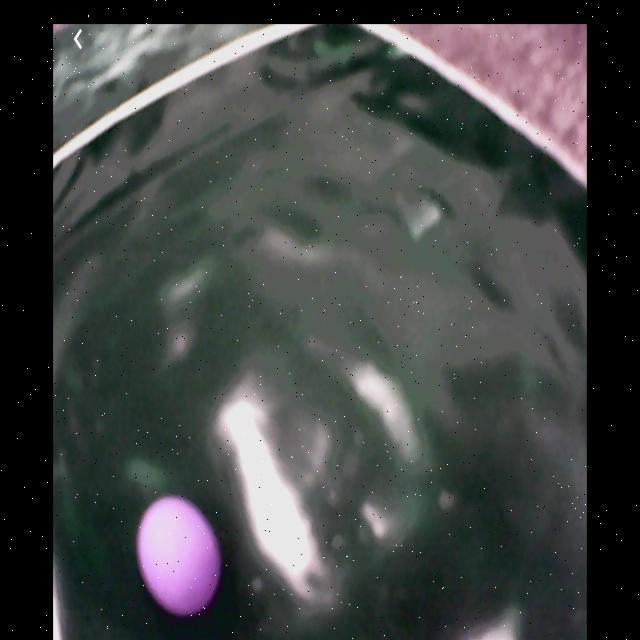ball: (138, 497, 222, 616)
